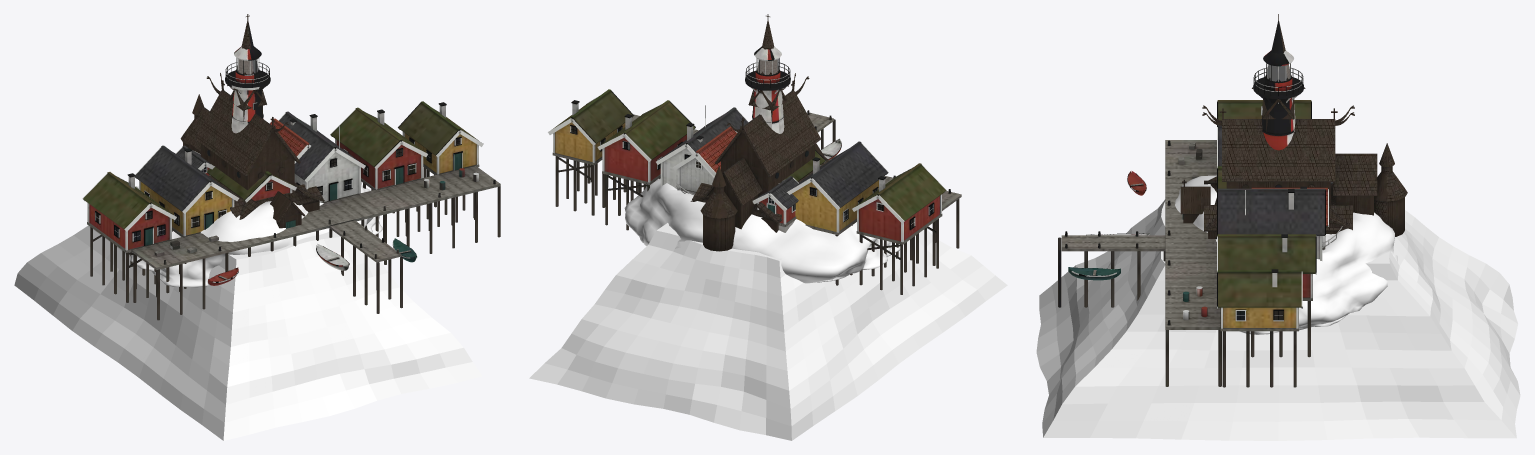
Rendered from cenario.glb.
3 renders of one model, left to right at view 1: azimuth 30°, elevation 25°; view 2: azimuth 150°, elevation 25°; view 3: azimuth 270°, elevation 25°, orthographic. The views are drawn at different scales.
Visible parts, largest first — view 1: Igreja_Rocha, Vila_Casas, Igreja_Madeira, Farol_Rocha, Farol_Casas; view 2: Igreja_Rocha, Vila_Casas, Igreja_Madeira, Farol_Rocha, Farol_Casas; view 3: Igreja_Rocha, Vila_Casas, Igreja_Madeira, Farol_Rocha, Farol_Casas.
Part boxes in pixels (left/top/right/bottom): Igreja_Rocha: left=14, top=185, right=482, bottom=440; Vila_Casas: left=82, top=101, right=500, bottom=320; Igreja_Madeira: left=180, top=14, right=324, bottom=228; Farol_Rocha: left=130, top=185, right=382, bottom=287; Farol_Casas: left=176, top=46, right=339, bottom=175; Igreja_Rocha: left=529, top=223, right=1007, bottom=440; Vila_Casas: left=548, top=89, right=961, bottom=294; Igreja_Madeira: left=690, top=14, right=829, bottom=251; Farol_Rocha: left=624, top=178, right=900, bottom=283; Farol_Casas: left=673, top=46, right=798, bottom=232; Igreja_Rocha: left=1036, top=199, right=1520, bottom=440; Vila_Casas: left=1058, top=100, right=1325, bottom=387; Igreja_Madeira: left=1180, top=14, right=1407, bottom=239; Farol_Rocha: left=1175, top=175, right=1397, bottom=334; Farol_Casas: left=1245, top=50, right=1342, bottom=250.
Bounding box in the file's own units: 49.04 × 41.38 × 51.3.
6 materials, 3 textured.
